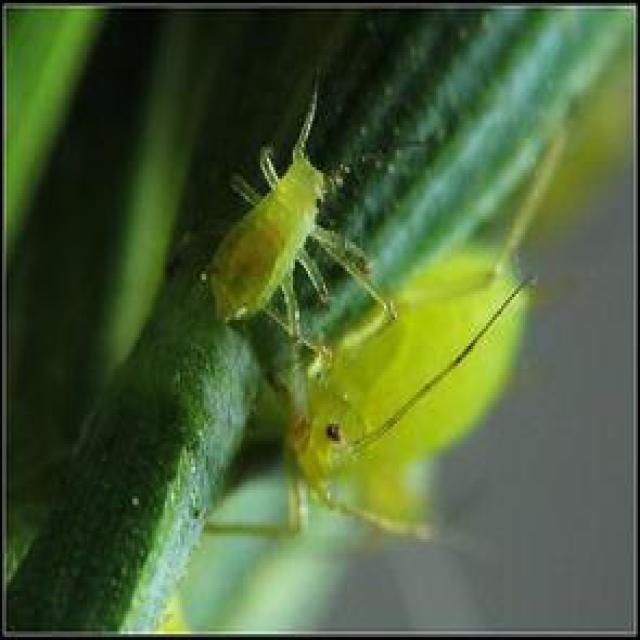Aphids: (201, 96, 413, 370)
